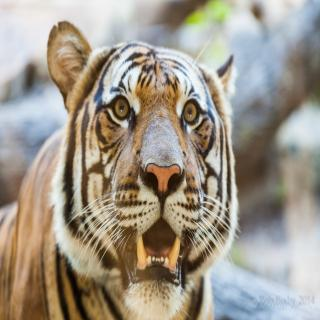Tiger: (0, 21, 241, 320)
